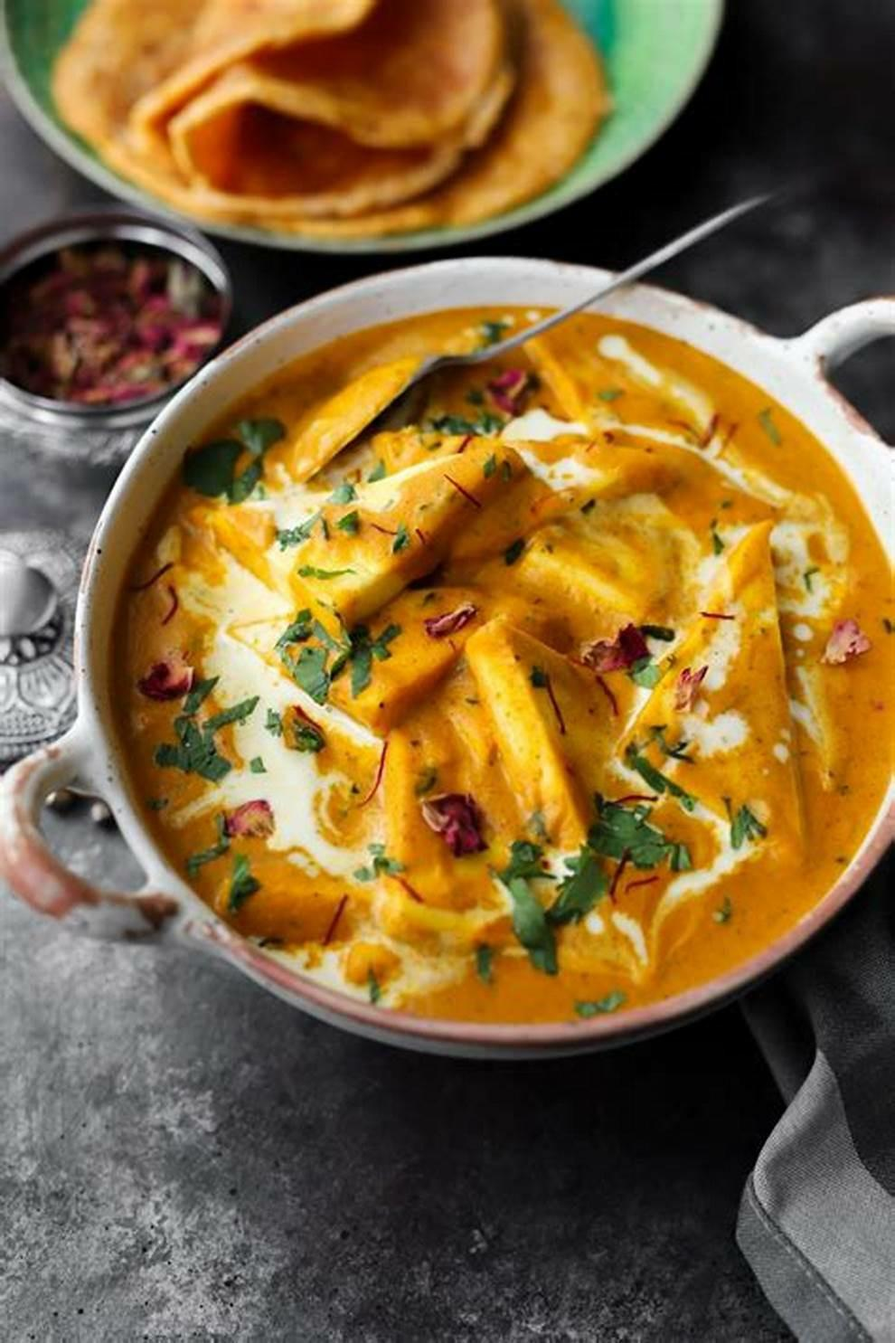ShahiPaneer: (119, 305, 894, 1023)
